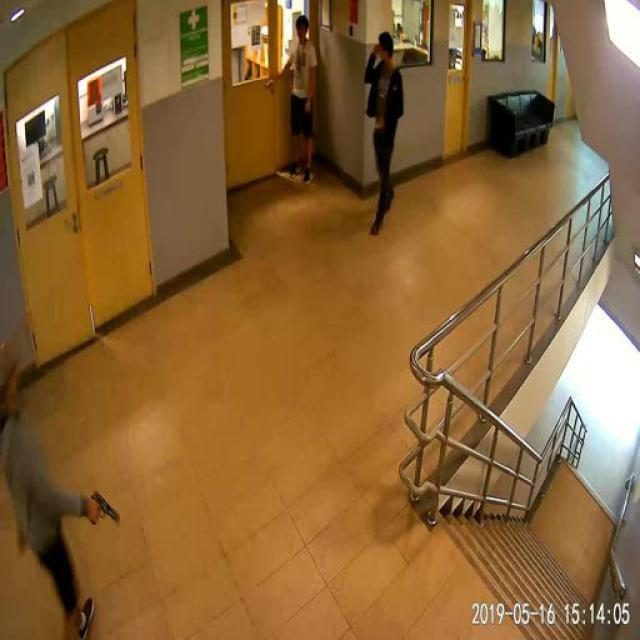weapon: (86, 494, 121, 529)
